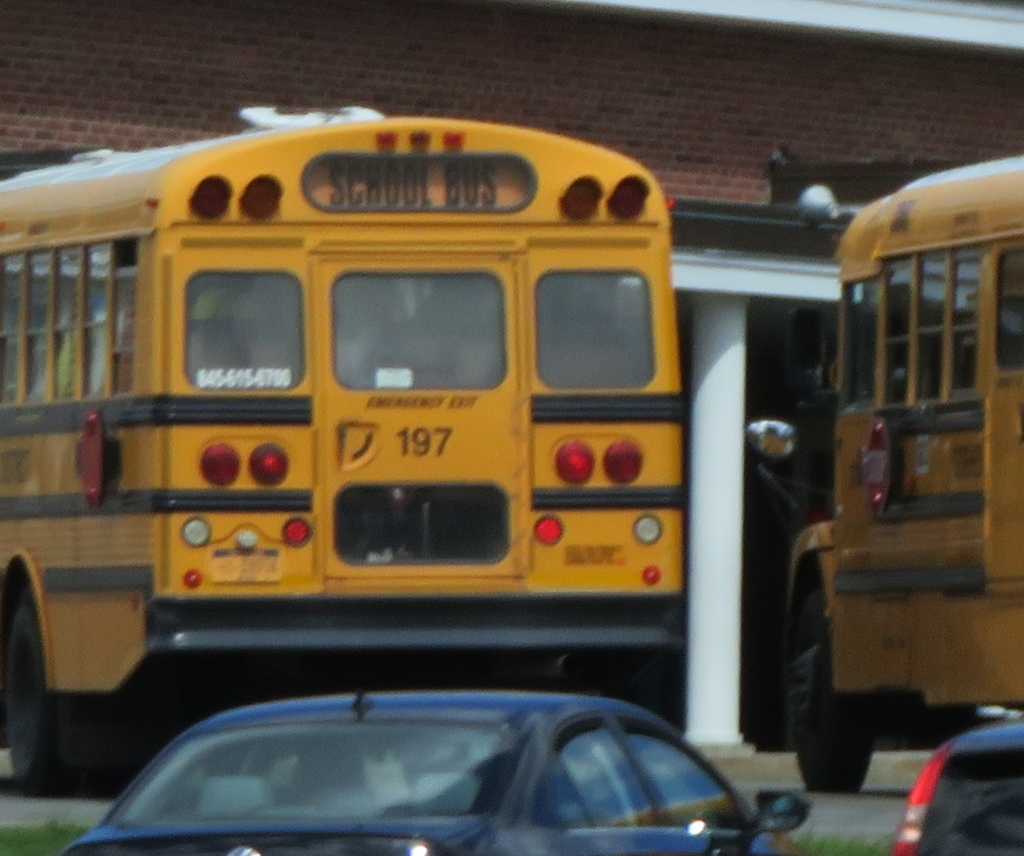Bus: (0, 112, 690, 789), (737, 152, 1023, 793)
